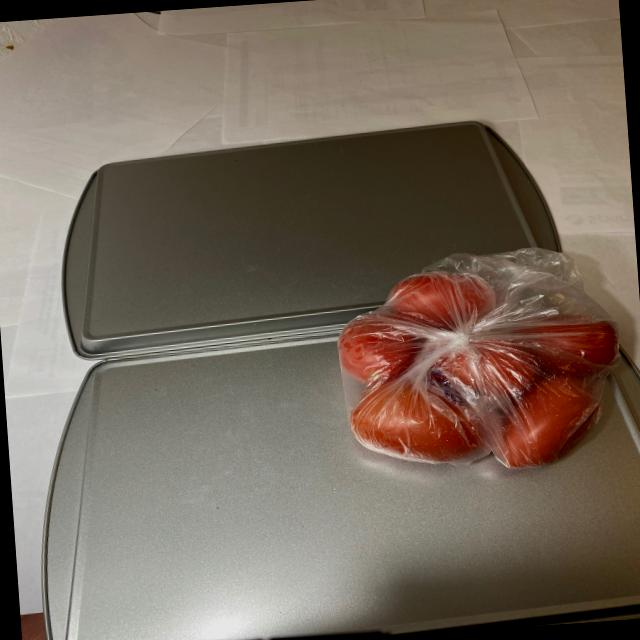tomato: (327, 259, 628, 489)
